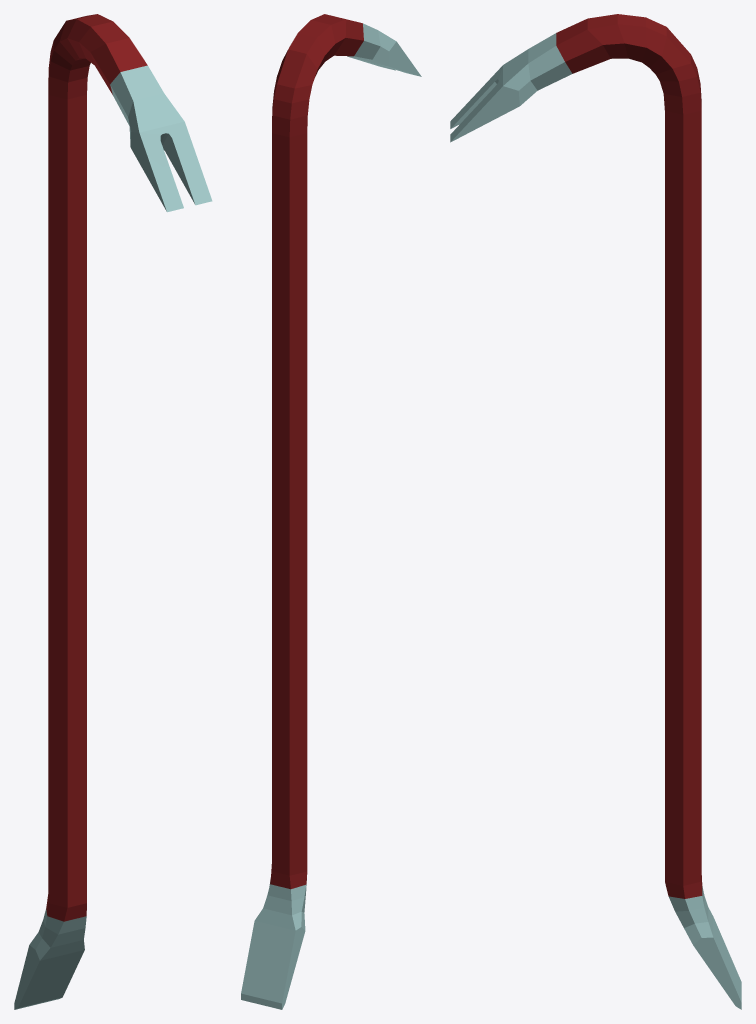
The model's file is Prop_Crowbar.fbx.
3 renders of one model, left to right at view 1: azimuth 30°, elevation 25°; view 2: azimuth 150°, elevation 25°; view 3: azimuth 270°, elevation 25°, orthographic. The views are drawn at different scales.
Visible parts, largest first — view 1: Prop_Crowbar; view 2: Prop_Crowbar; view 3: Prop_Crowbar.
Part boxes in pixels (<box>): Prop_Crowbar: <box>14,14,212,1009</box>; Prop_Crowbar: <box>241,14,421,1009</box>; Prop_Crowbar: <box>450,14,741,1009</box>.
Bounding box in the file's own units: 28.91 × 4.96 × 107.
